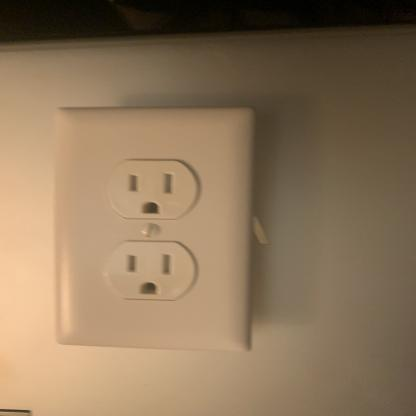OUTLET: (54, 108, 253, 347)
